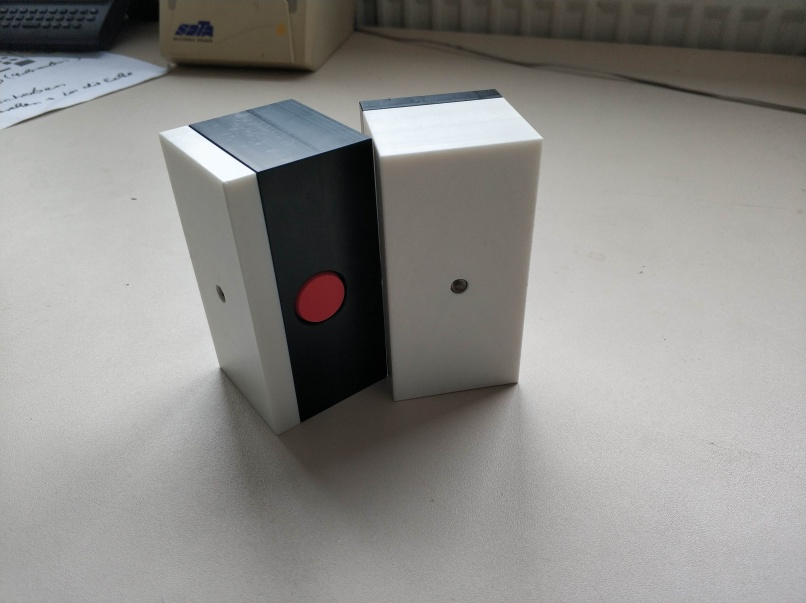white+black+red: (158, 97, 390, 438)
